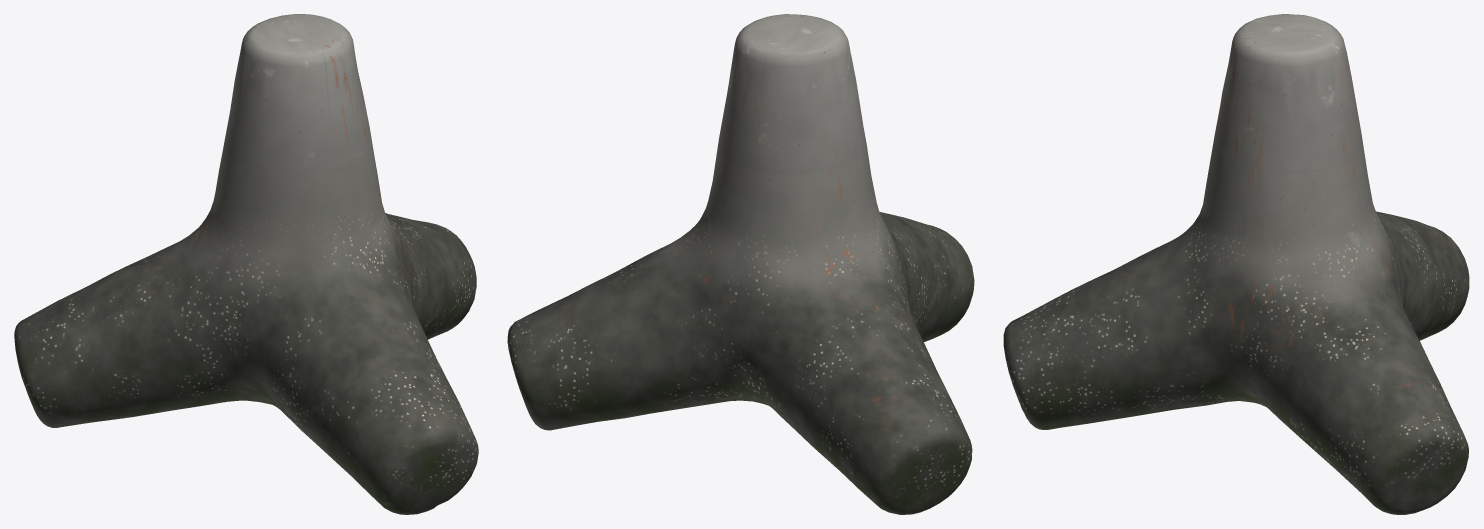
The model's file is Tetrapod_B.gltf.
3 views of the same model, side by side, from view 1: azimuth 30°, elevation 25°; view 2: azimuth 150°, elevation 25°; view 3: azimuth 270°, elevation 25° (orthographic).
Parts seen in each view (by area): view 1: Tetrapod_B; view 2: Tetrapod_B; view 3: Tetrapod_B.
Boxes of the visible parts, box(x1,y1,x2,y2) form: Tetrapod_B: box(14, 14, 478, 514); Tetrapod_B: box(507, 14, 974, 514); Tetrapod_B: box(1003, 14, 1469, 514).
Size of the model in its own units: 2.09 by 1.74 by 1.87.
1 material, 1 textured.
